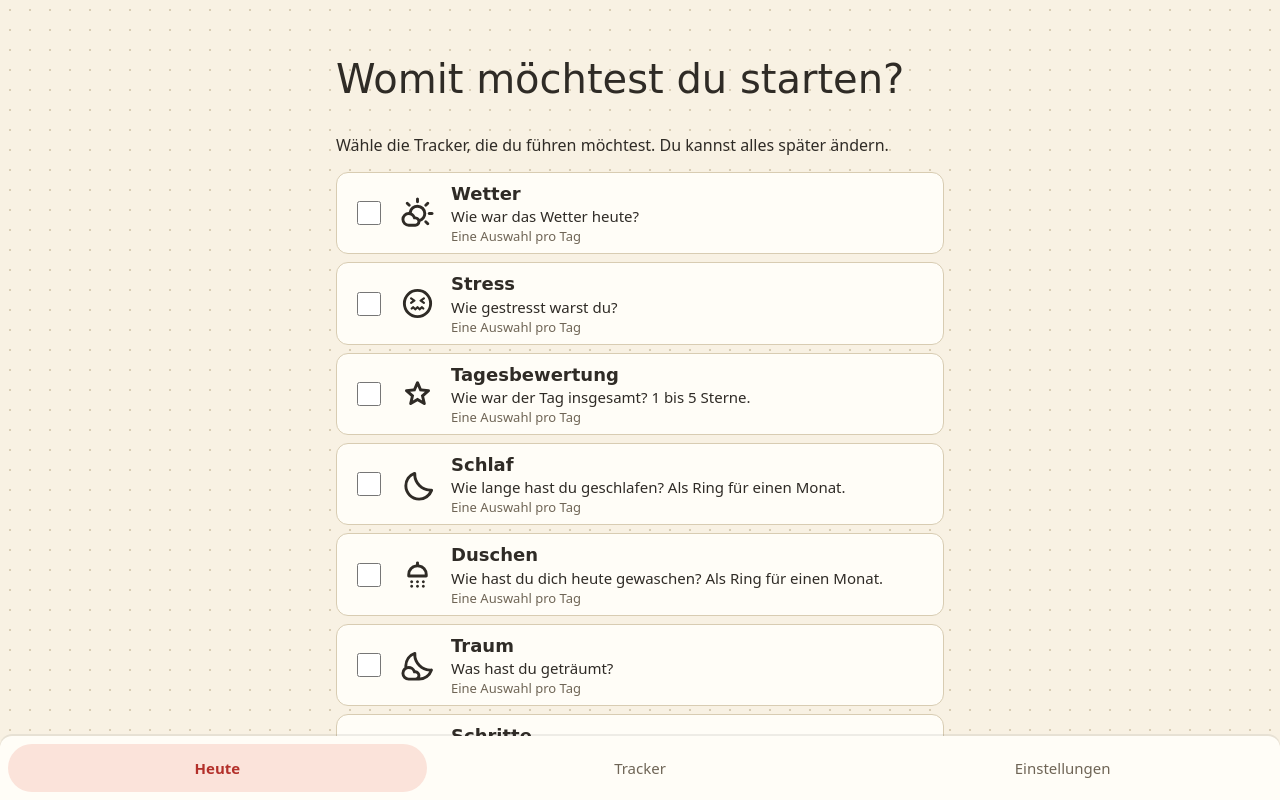
Test case: App › offers a backup in the settings and reminds about it once something is recorded
Expected: the heading "Womit möchtest du starten?" is shown, top-left (336, 51), bottom-right (944, 107)
Step 1. Click the checkbox labelled "Wetter Wie war das Wetter heute? Eine Auswahl pro Tag" → [369, 213], box top-left (357, 201), bottom-right (381, 225)
(page scrolled)
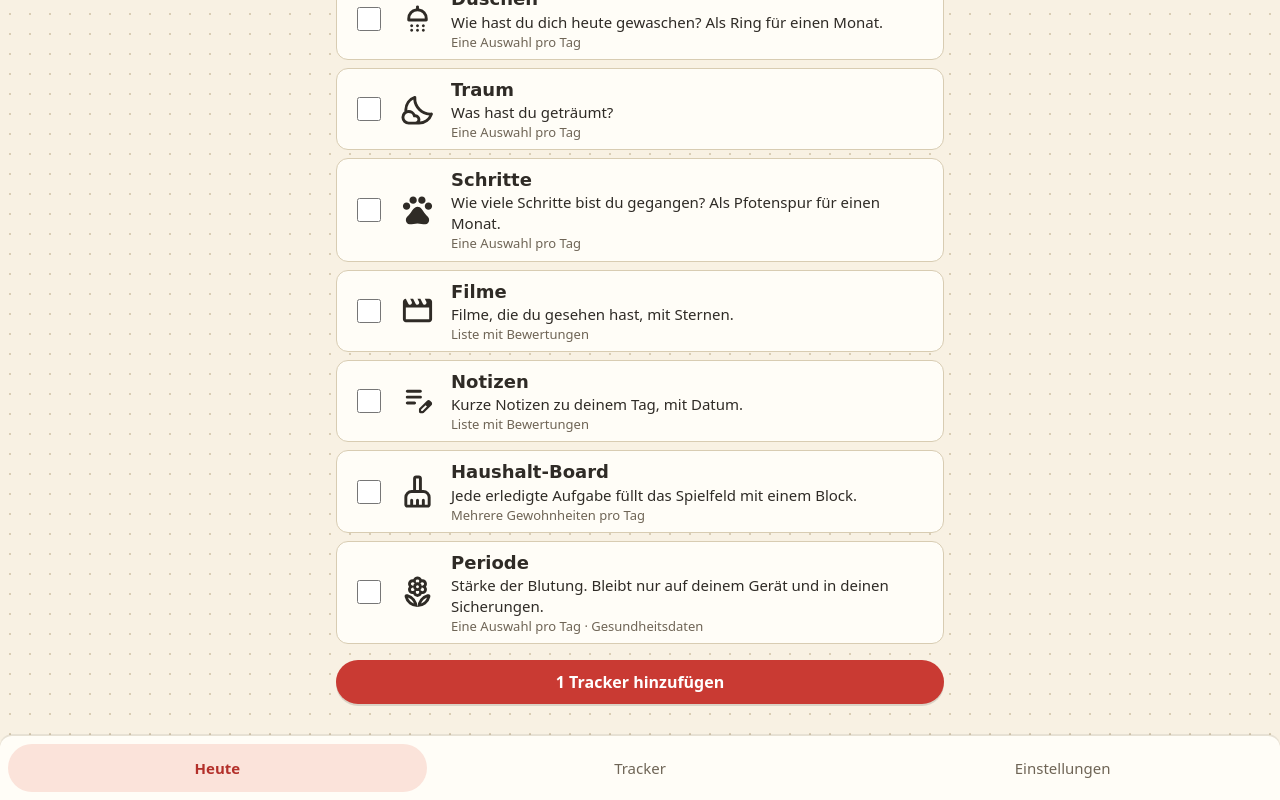
Step 2. Click the button "1 Tracker hinzufügen" → [640, 682], box top-left (336, 660), bottom-right (944, 704)
(page scrolled)
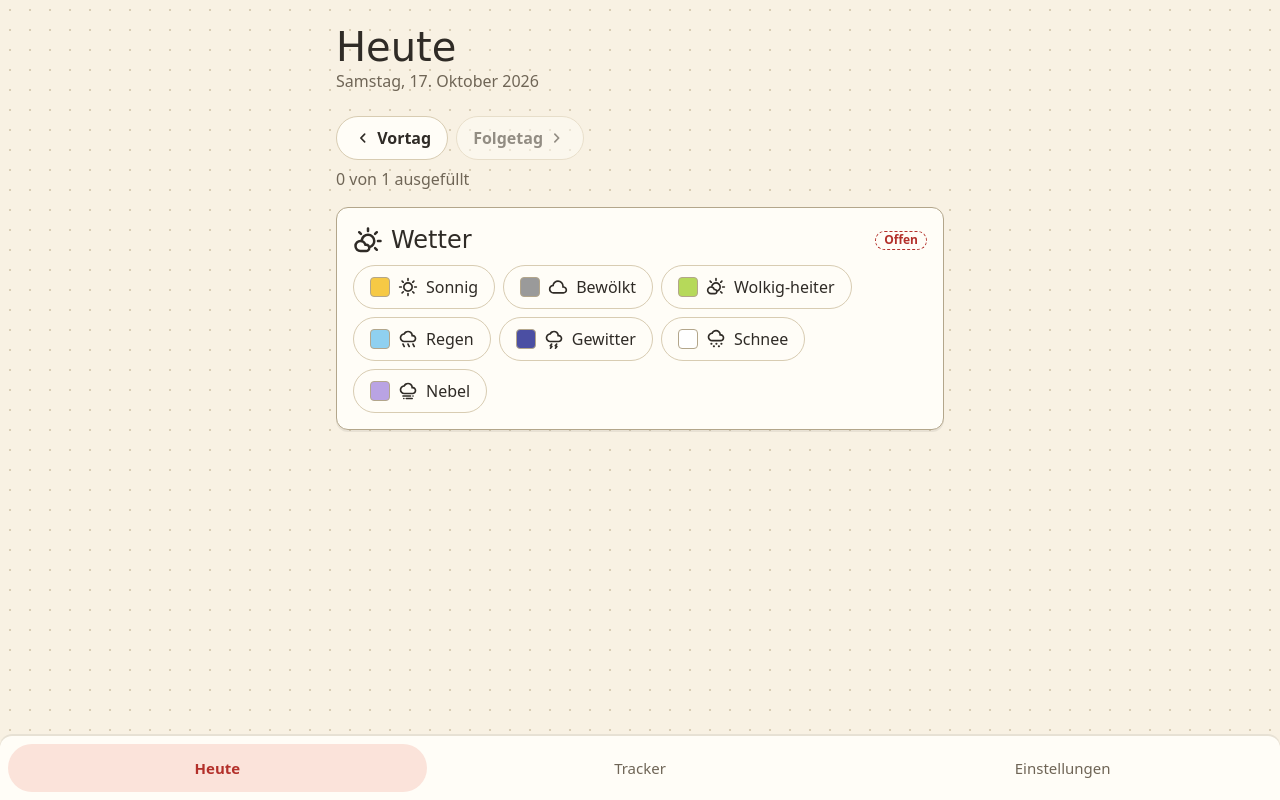
Expected: the text "noch keine Sicherung" is not shown
Step 3. Click the button "Sonnig" → [424, 287], box top-left (353, 265), bottom-right (495, 309)
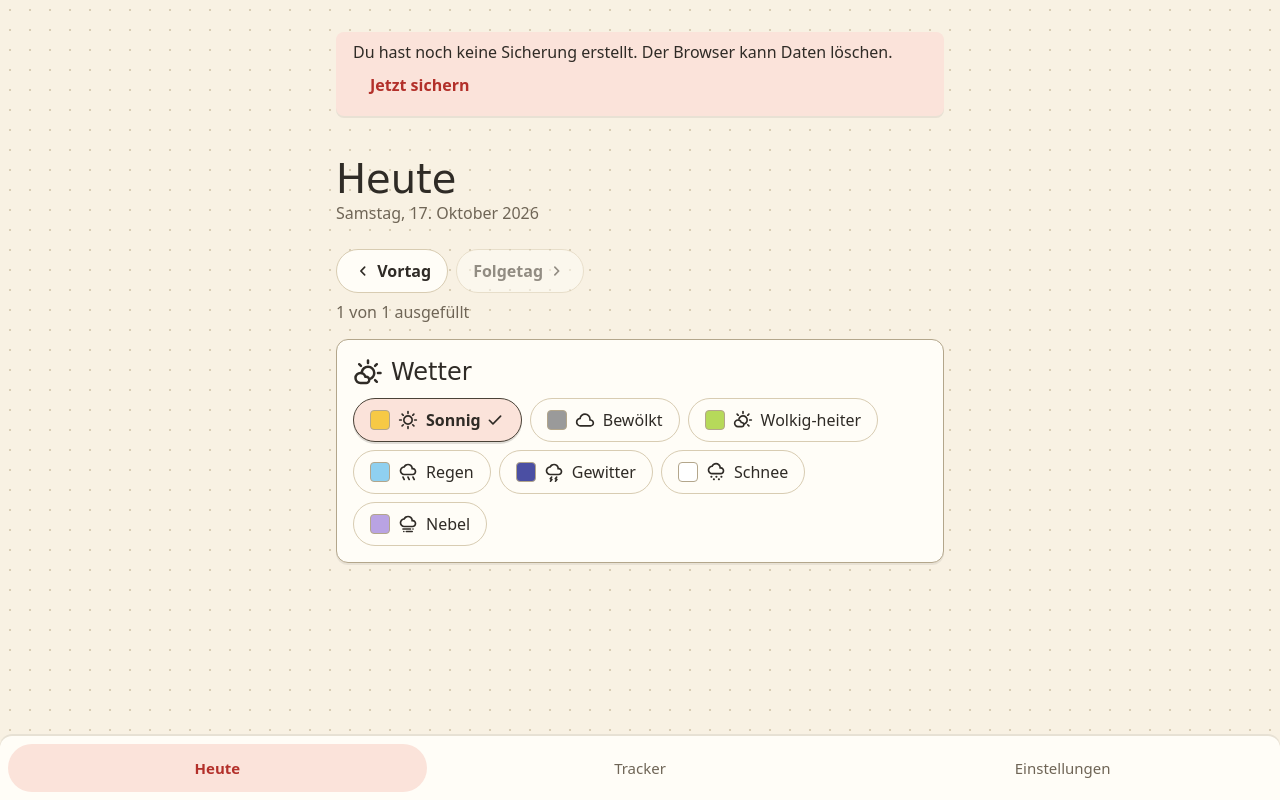
Expected: the text "noch keine Sicherung" is shown, top-left (353, 41), bottom-right (892, 63)
Step 4. Click the button "Jetzt sichern" → [420, 85], box top-left (353, 63), bottom-right (486, 107)
(page scrolled)
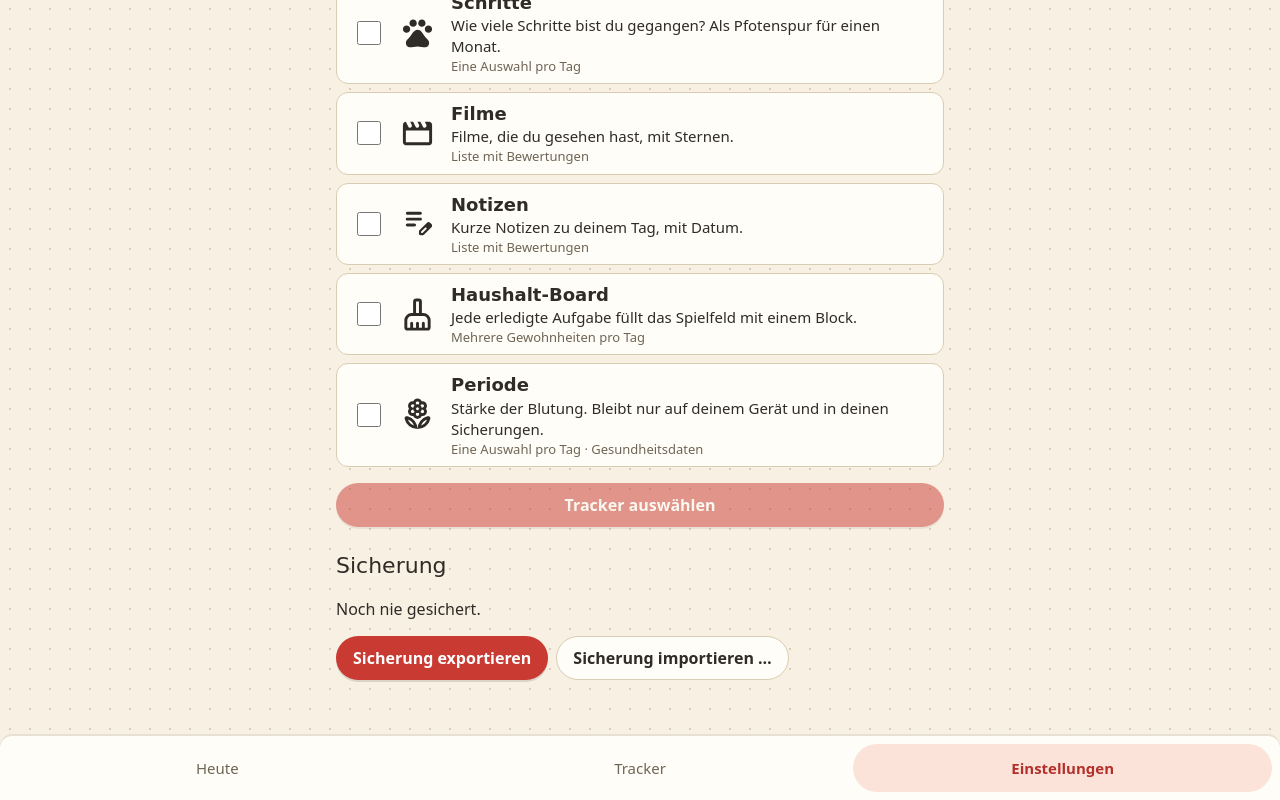
Expected: the button "Sicherung exportieren" is shown, top-left (336, 636), bottom-right (548, 680)
